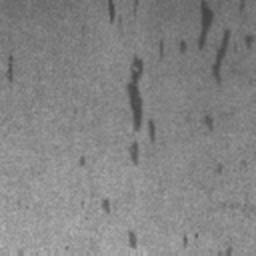Red iron sheet: (157, 0, 256, 87), (124, 54, 157, 165), (200, 113, 215, 133), (106, 0, 116, 23), (6, 54, 14, 82), (101, 198, 113, 215), (128, 232, 138, 250), (224, 247, 234, 256), (183, 234, 189, 247)
